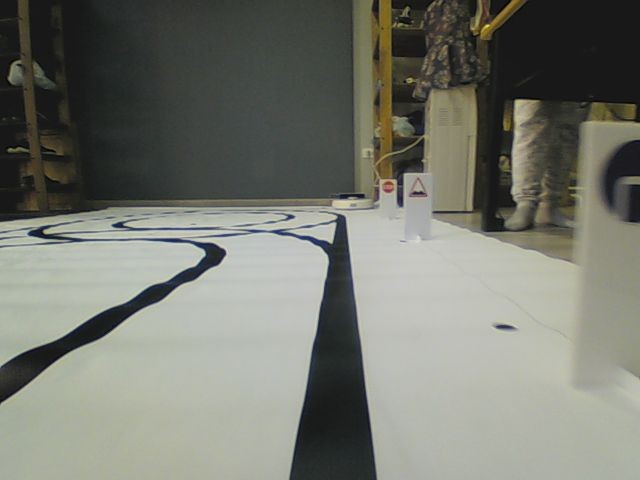Nerov: (408, 176, 428, 198)
